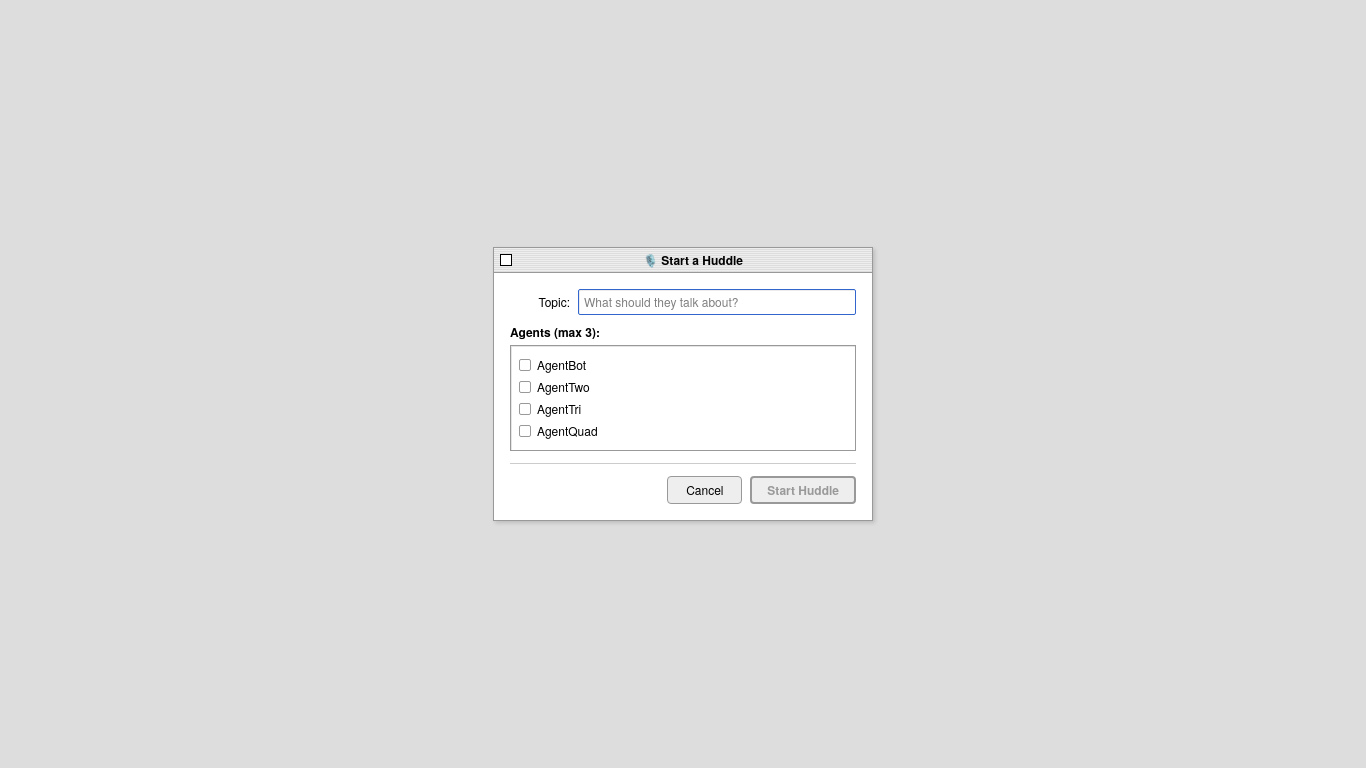
Scenario: NewHuddleModal › shows the API error and stays open when creation fails
Type "Test huddle" into the field labelled "Topic:".
click(717, 302); type("Test huddle")  # box [578,289,856,315]
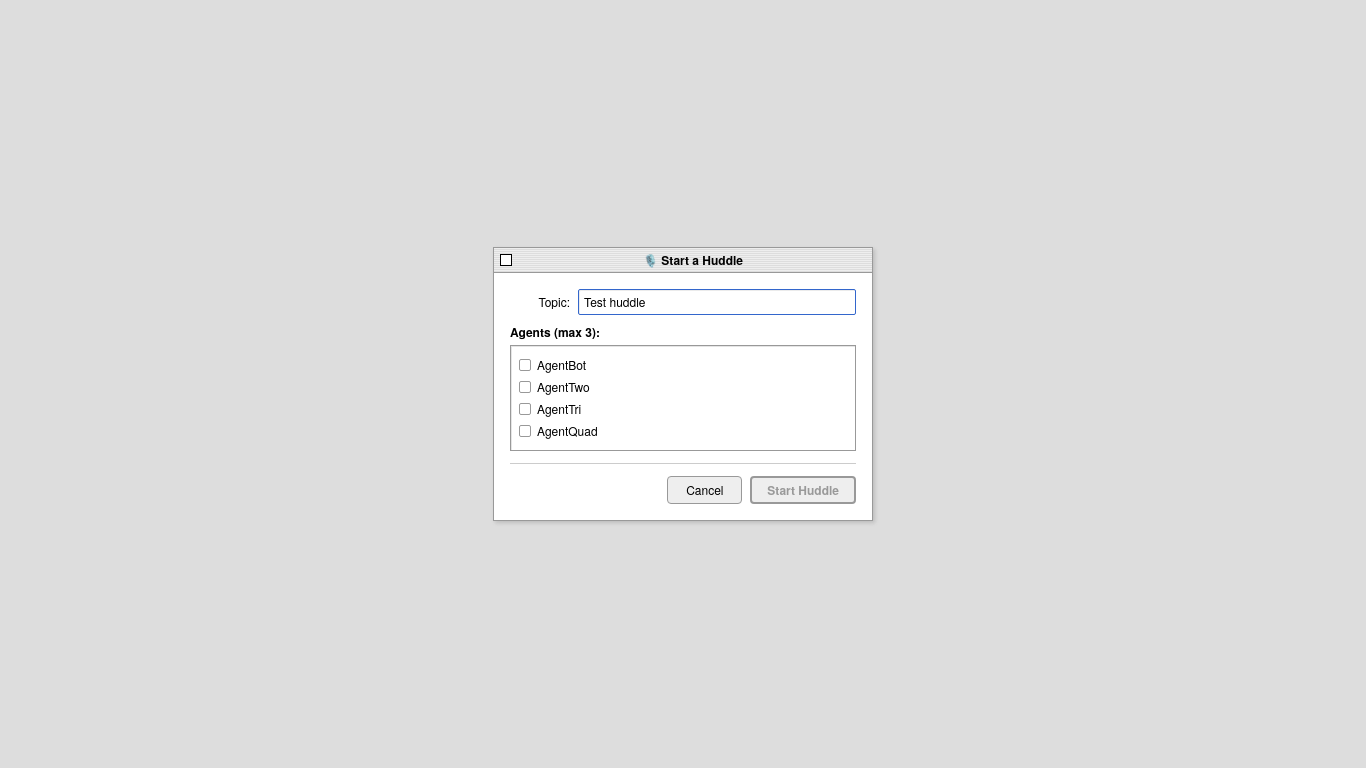
Click the text "AgentBot".
click(562, 365)  # box [537,356,586,374]
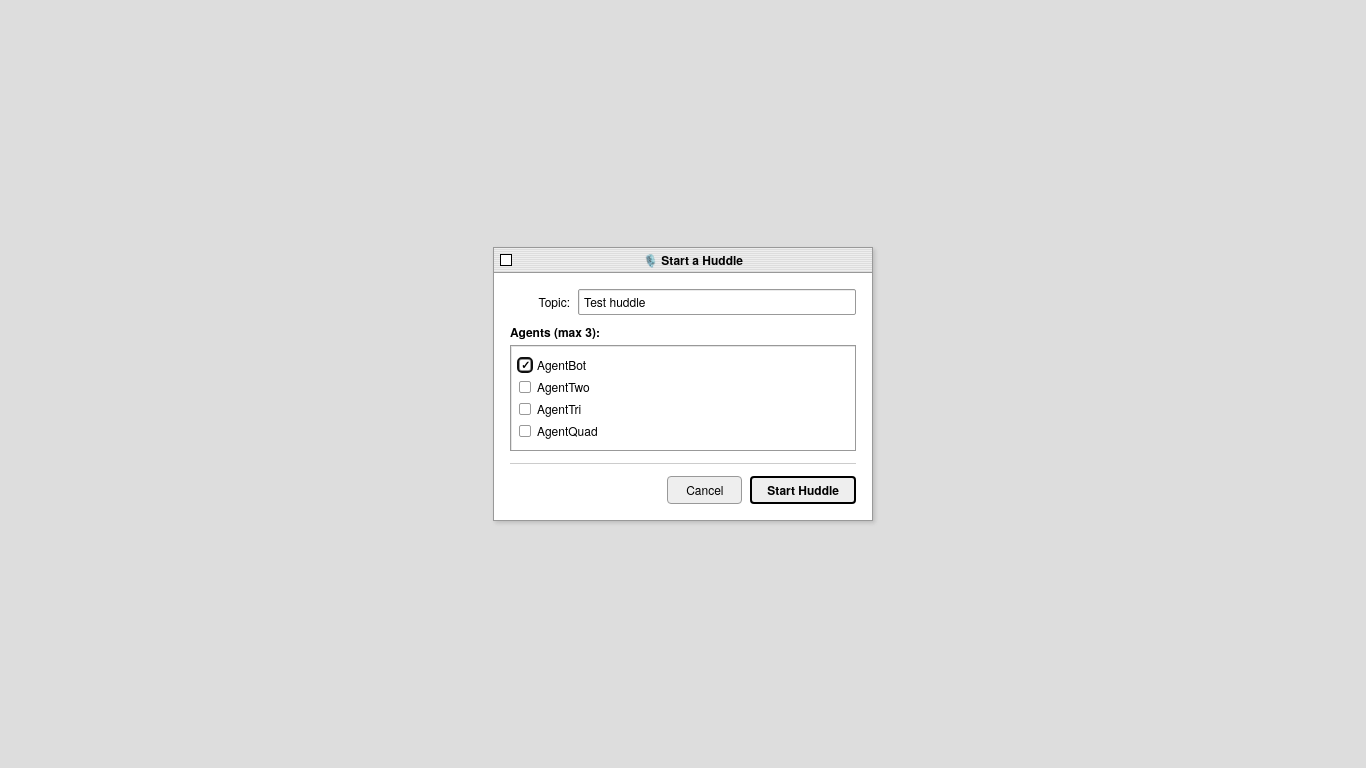
Click the button "Start Huddle".
click(803, 490)  # box [750,476,856,504]
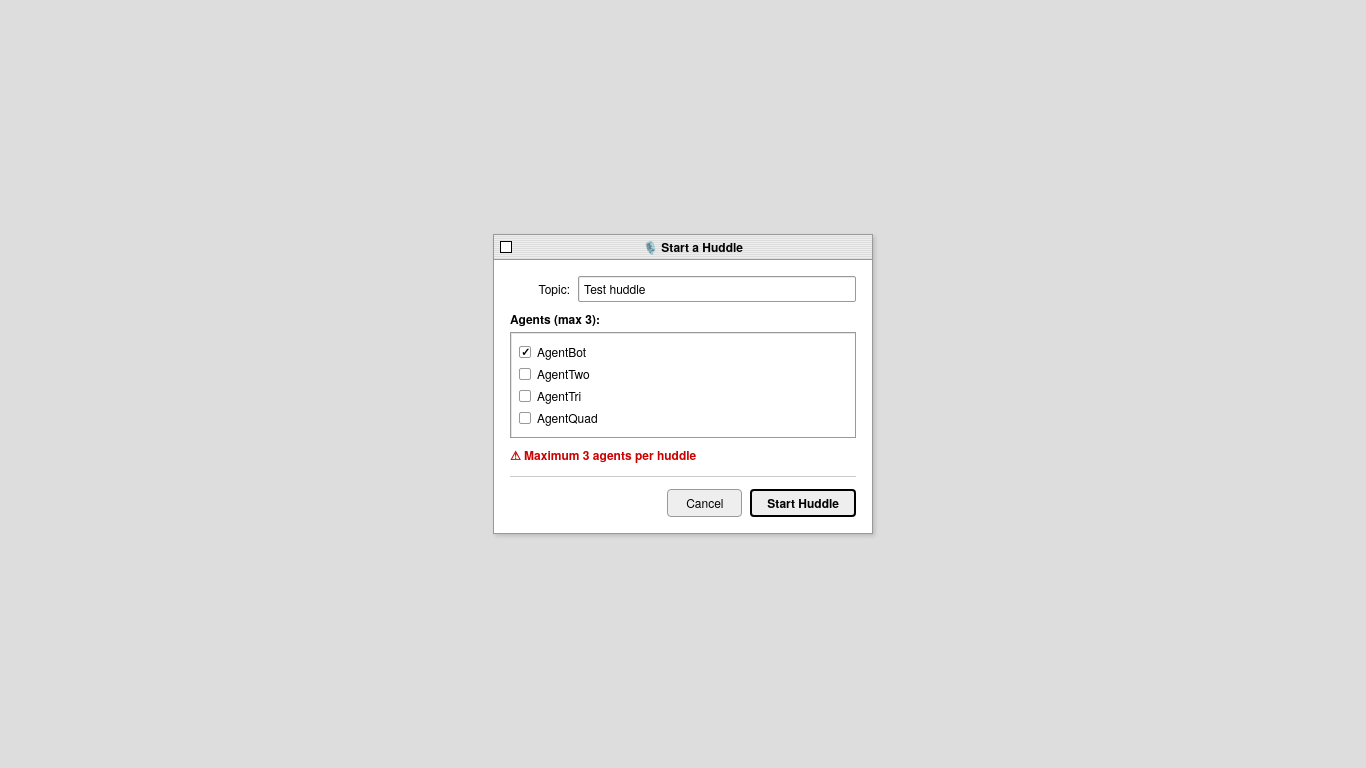
Expected: the message shows "Maximum 3 agents per huddle", [524,446,696,464]
